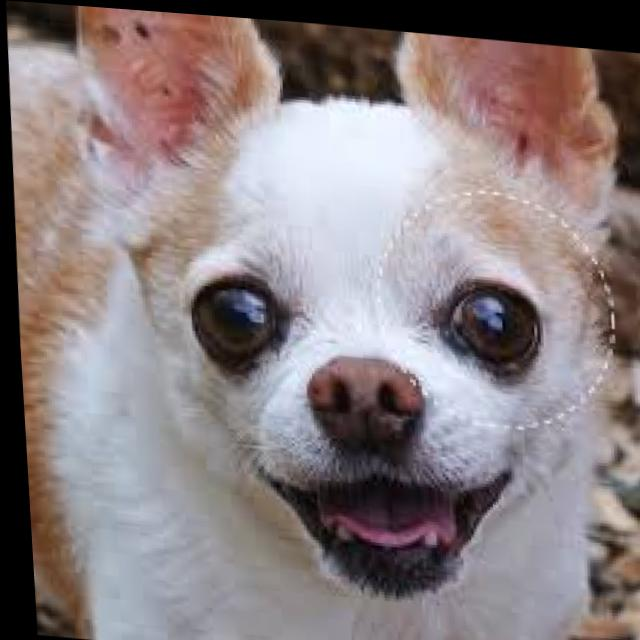Chihuahua: (1, 1, 640, 640)
